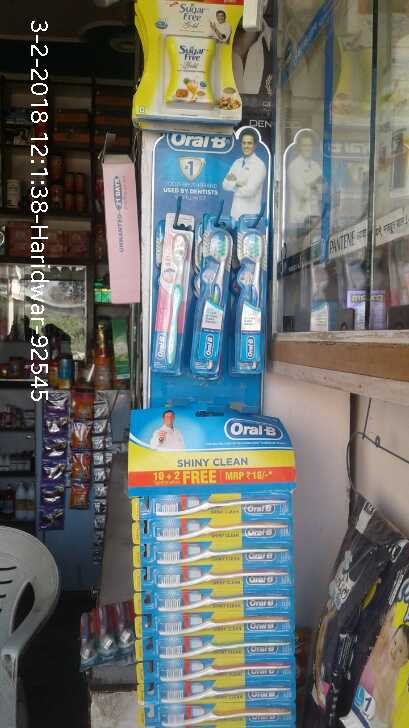oralb: (153, 212, 192, 376), (195, 215, 231, 374), (233, 217, 264, 373), (136, 491, 291, 519), (143, 543, 296, 568), (138, 519, 295, 543), (144, 613, 299, 636), (145, 568, 295, 591), (144, 635, 295, 657), (144, 659, 295, 681), (147, 683, 295, 705), (149, 708, 295, 727), (146, 592, 296, 610)
